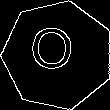O_S: (35, 29, 80, 81)
